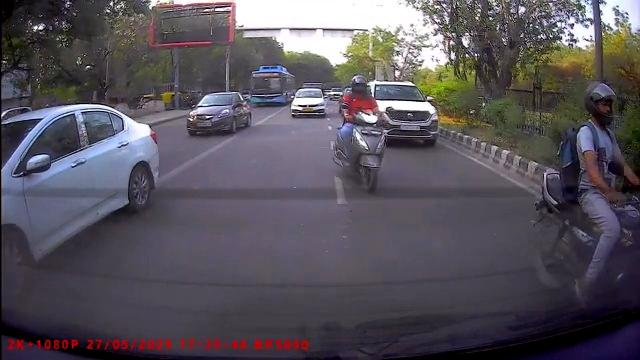motorcycle_with_helmet: (529, 80, 640, 312), (331, 73, 395, 195)
